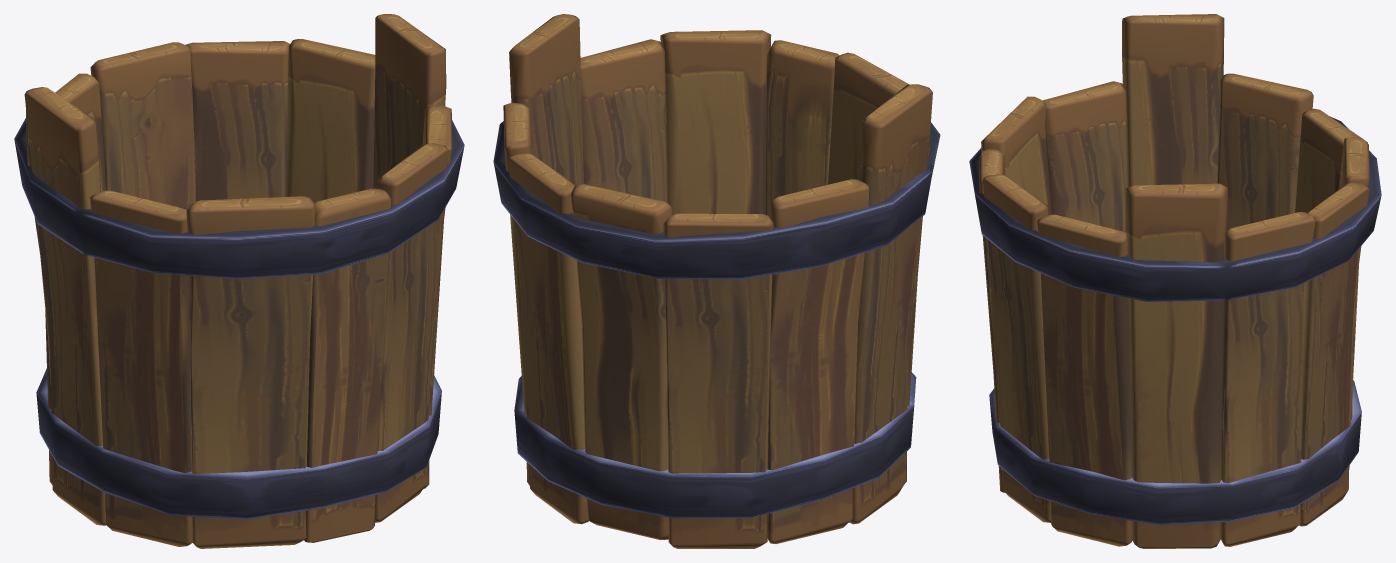
Rendered from SM_PROP_bucket_town.fbx.
3 views of the same model, side by side, from view 1: azimuth 30°, elevation 25°; view 2: azimuth 150°, elevation 25°; view 3: azimuth 270°, elevation 25° (orthographic). The views are drawn at different scales.
Parts seen in each view (by area): view 1: SM_PROP_bucket_town_LOD0; view 2: SM_PROP_bucket_town_LOD0; view 3: SM_PROP_bucket_town_LOD0.
Part boxes in pixels (left/top/right/bottom): SM_PROP_bucket_town_LOD0: left=14, top=14, right=464, bottom=548; SM_PROP_bucket_town_LOD0: left=493, top=14, right=940, bottom=548; SM_PROP_bucket_town_LOD0: left=969, top=14, right=1381, bottom=548.
Size of what is drawn, in the model's own units: 36.42 by 37.27 by 36.56.
